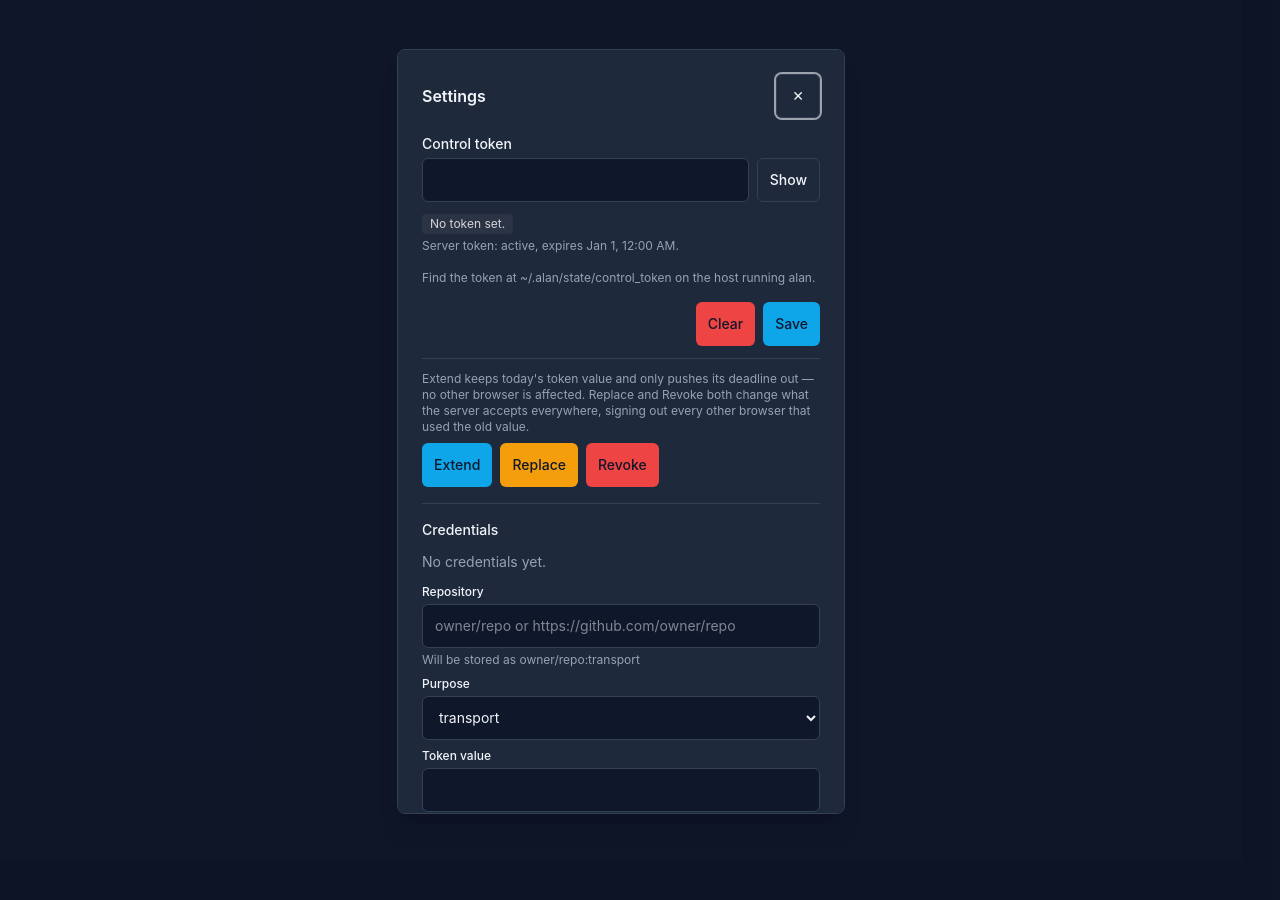
Test: SettingsModal › Ctrl+Enter saves the draft without closing the modal
Type "ctrl-enter-token" into the password field with test id "control-token-input" at [585, 180], box [422, 158, 749, 202]
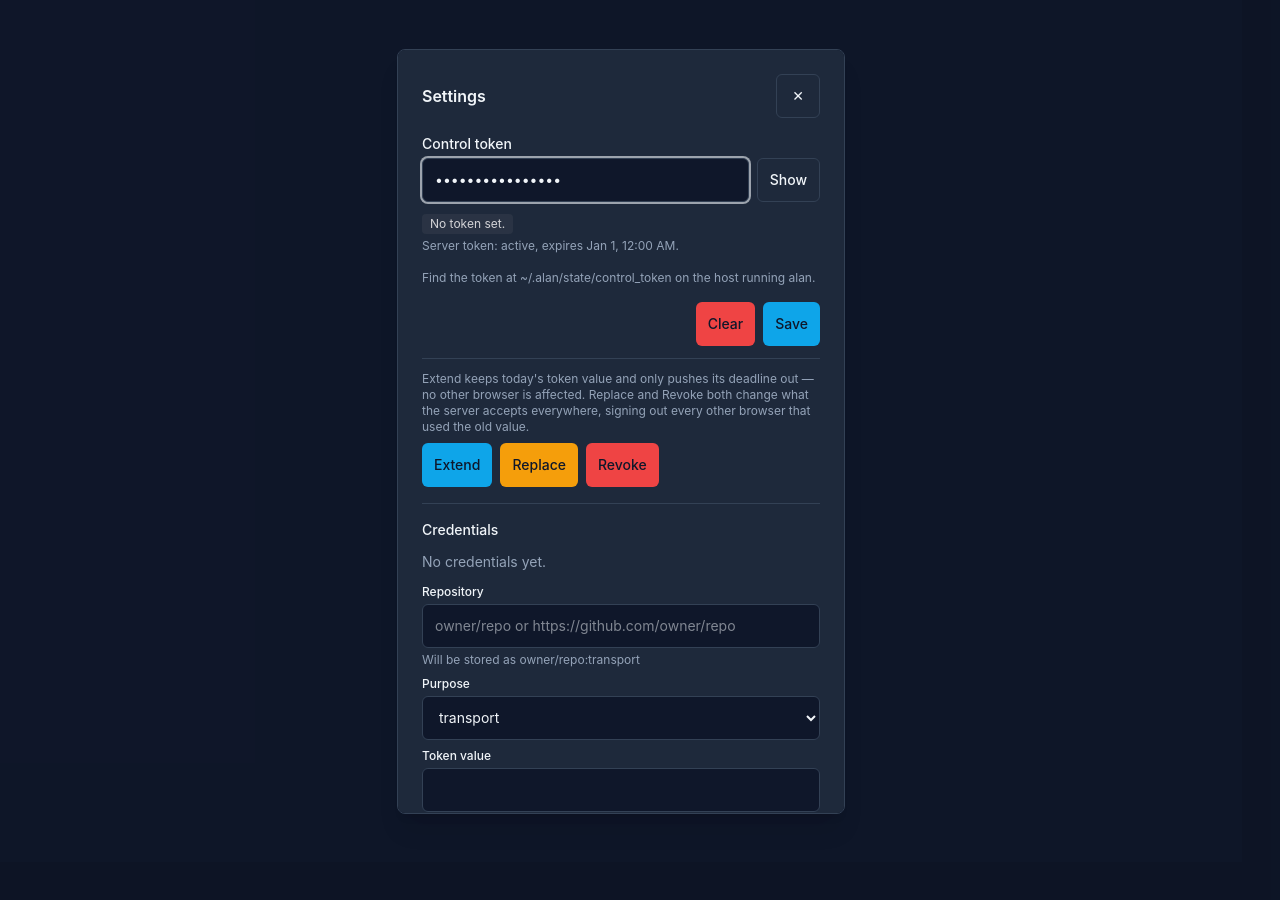
Press Enter in the element that starts with "Settings", box [397, 48, 845, 814]
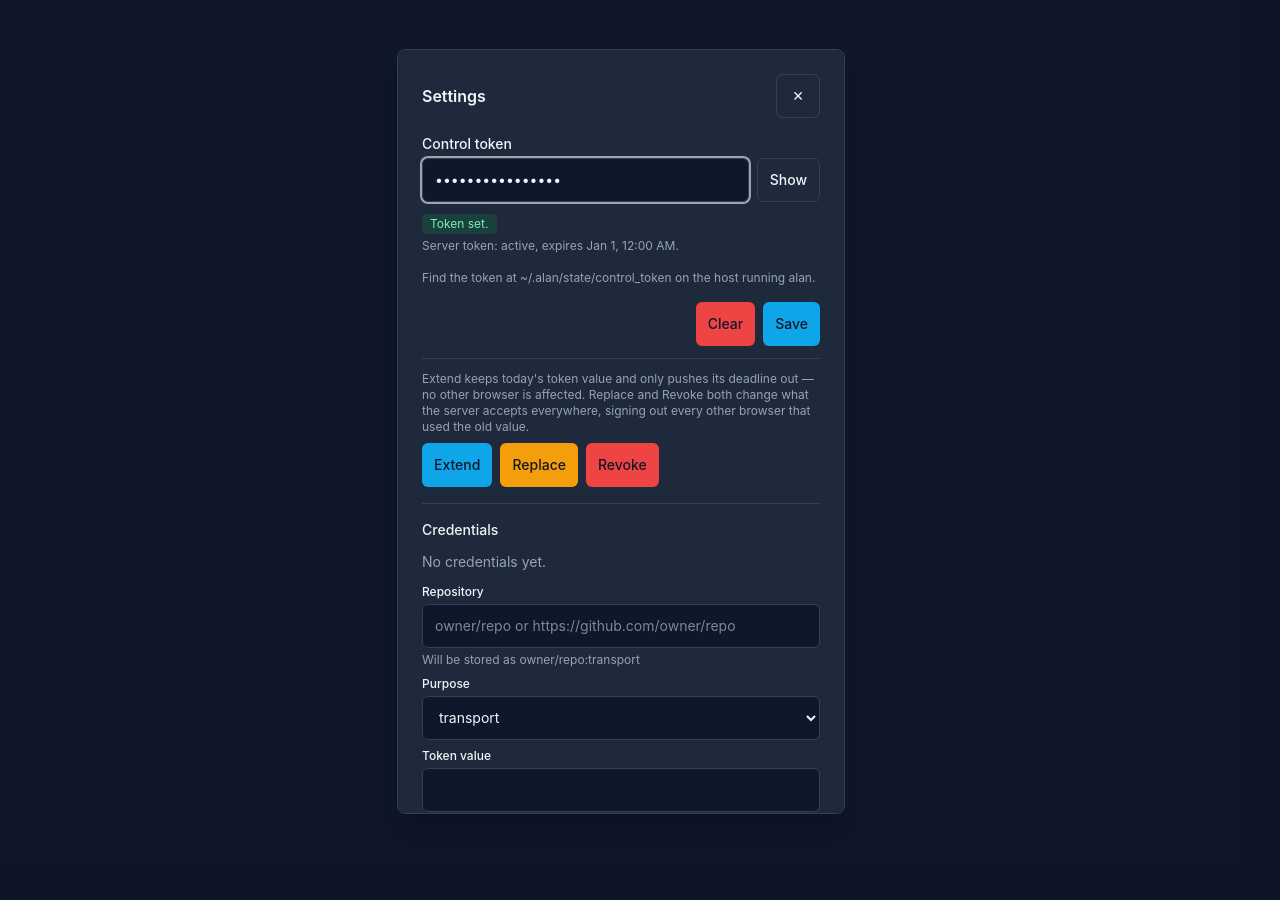
Now the text with test id "control-token-status" reads "Token set.", box [430, 216, 488, 230]
